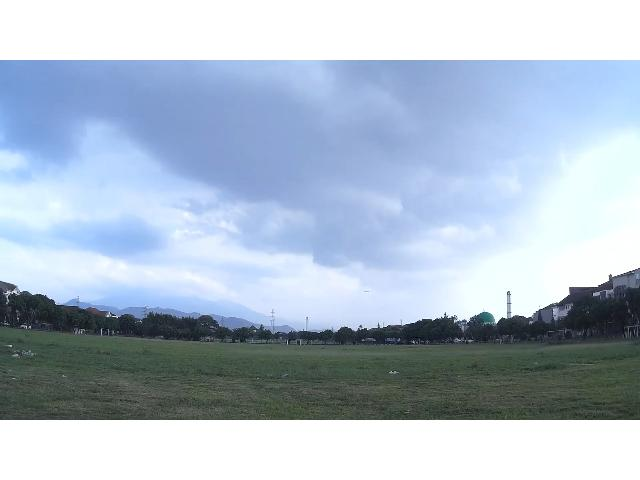Anti-Drone: (357, 285, 383, 297)
